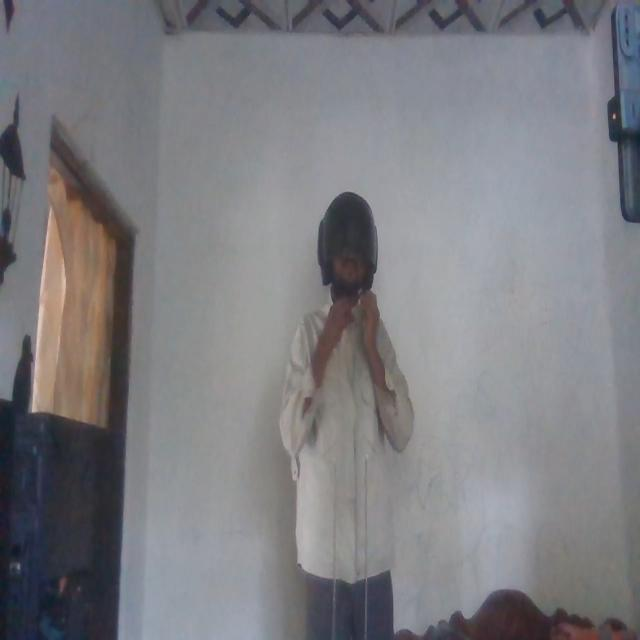Helmet_Wearer: (309, 185, 383, 301)
Jacket_Wearer: (275, 296, 415, 580)
Person: (274, 182, 414, 640)
